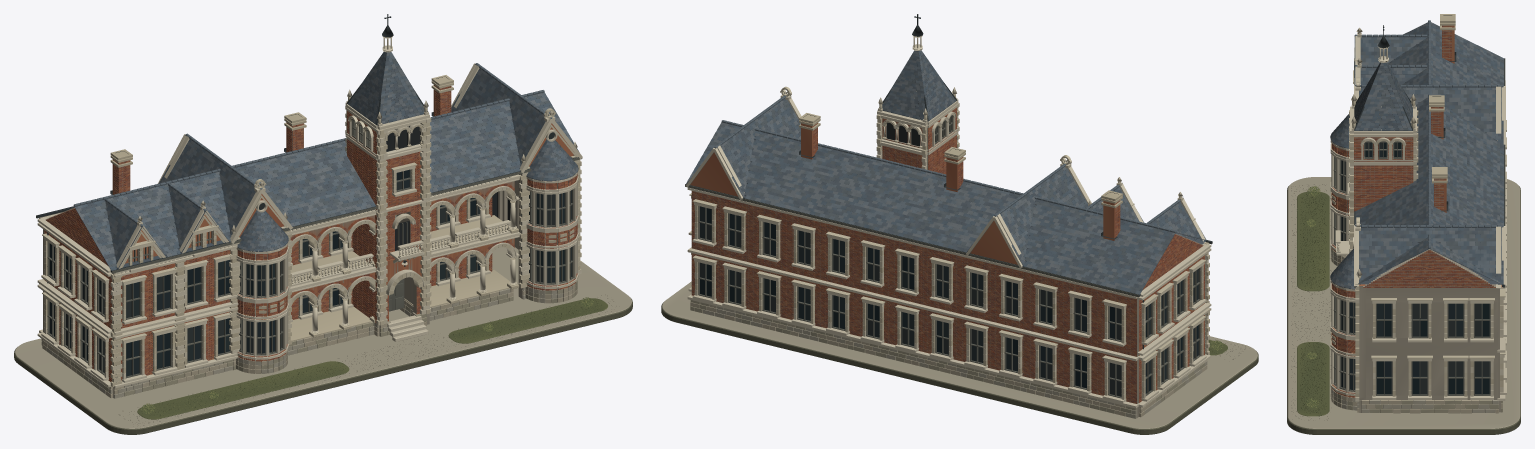
The model's file is cbc-perth-1894.glb.
3 renders of one model, left to right at view 1: azimuth 30°, elevation 25°; view 2: azimuth 150°, elevation 25°; view 3: azimuth 270°, elevation 25°, orthographic. The views are drawn at different scales.
Parts seen in each view (by area): view 1: cbc-perth-1894; view 2: cbc-perth-1894; view 3: cbc-perth-1894.
Boxes of the visible parts, x1,y1,x2,y2 form: cbc-perth-1894: [14, 14, 632, 434]; cbc-perth-1894: [661, 14, 1258, 434]; cbc-perth-1894: [1287, 14, 1520, 434].
Size of the model in its own units: 40.9 by 23.4 by 16.
